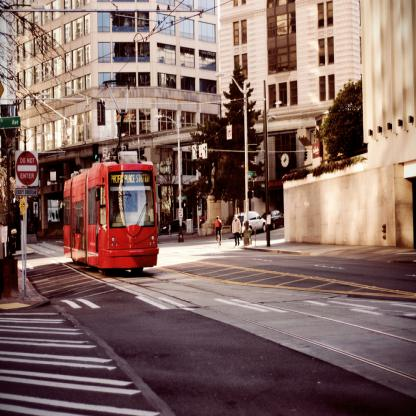Car: (231, 210, 267, 234), (262, 209, 284, 230), (160, 218, 186, 234), (197, 216, 206, 228)
